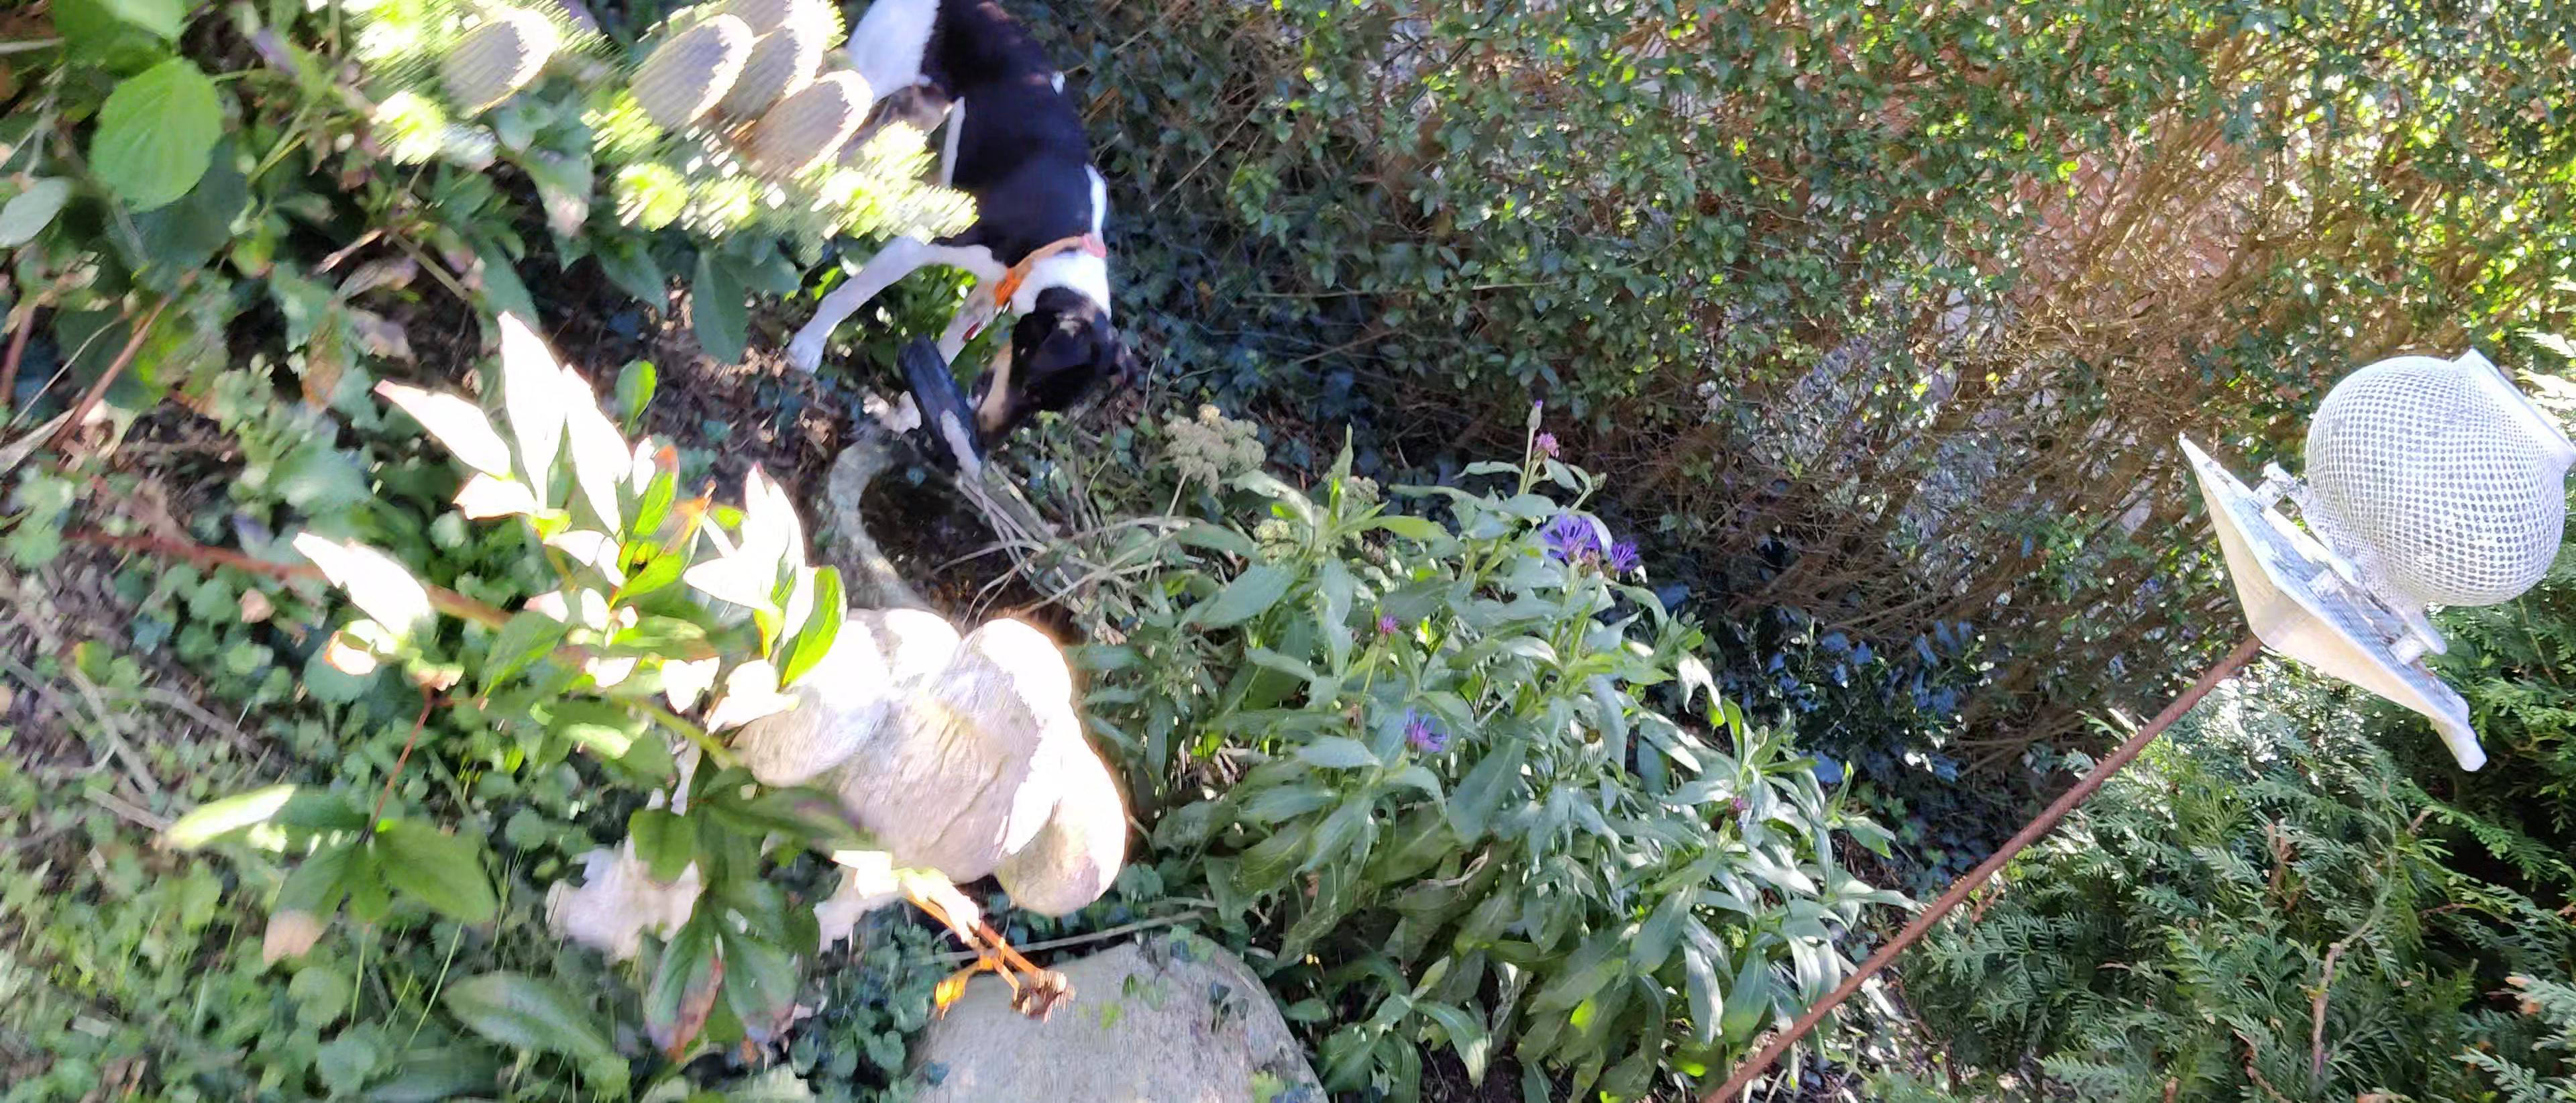Dog: (772, 0, 1145, 464)
